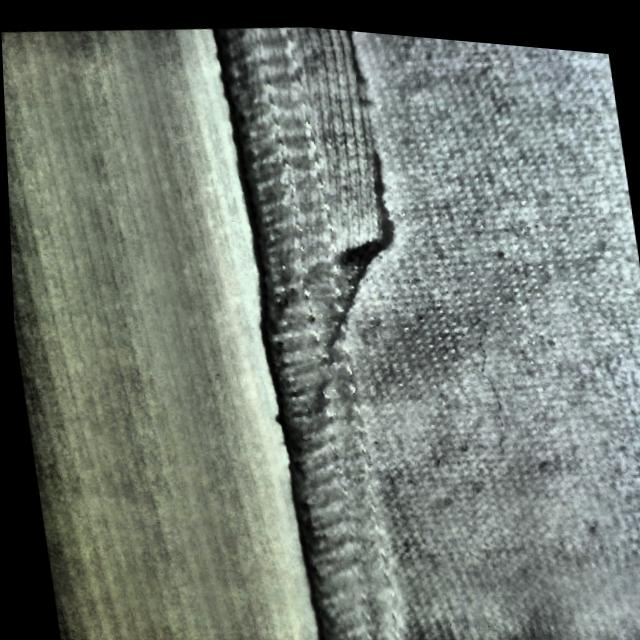seam: (213, 15, 432, 339)
